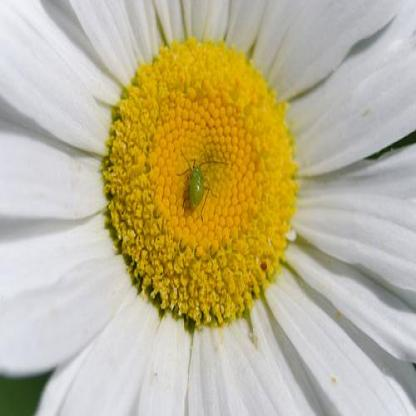aphid: (177, 150, 220, 218)
